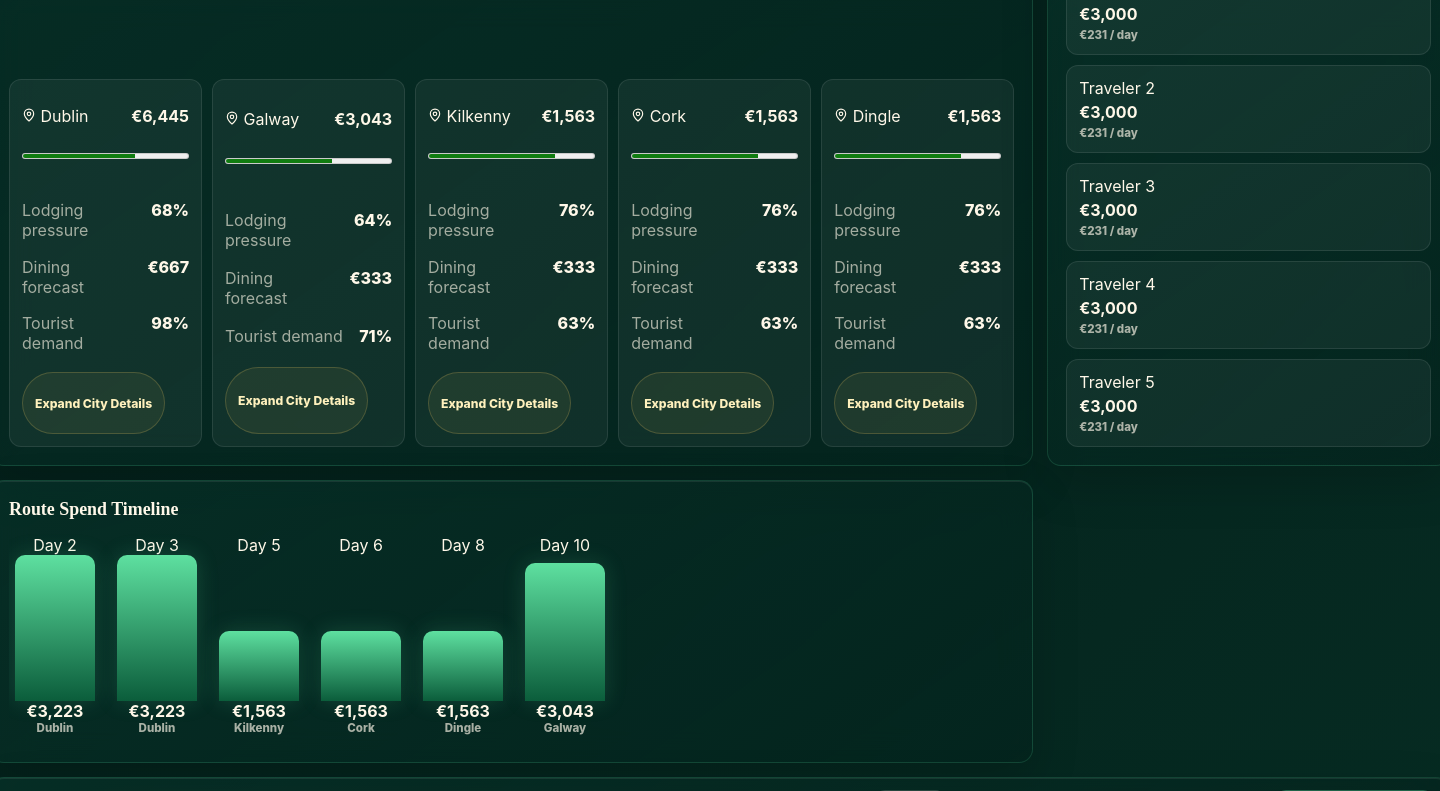
it: BudgetIntelligenceCenter › expands city intelligence cards into overlays
(page scrolled)
Step 1. Click the button with aria-label "Expand Galway intelligence" → click(297, 401), box [225,367,368,434]
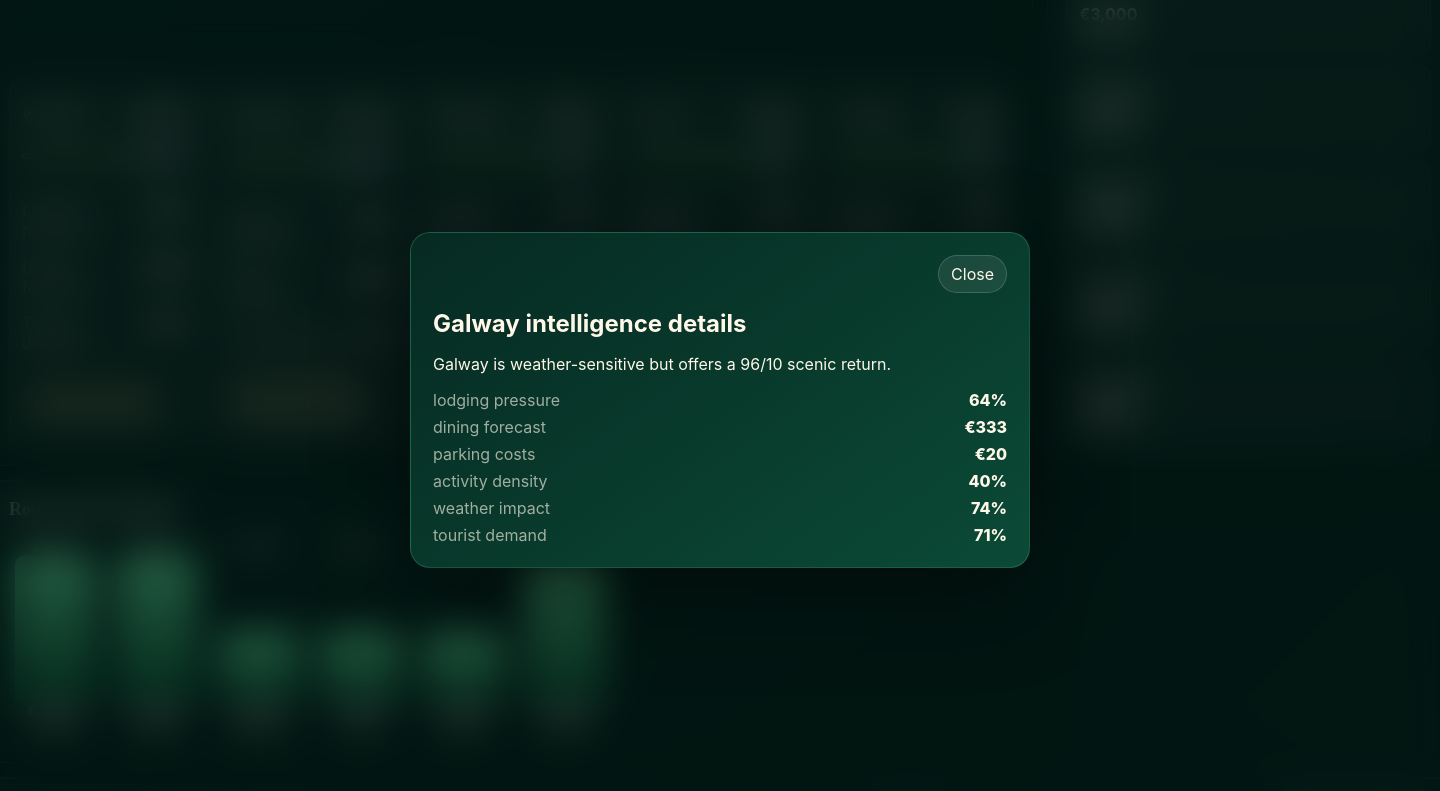
Expected: the dialog "Galway intelligence details" is shown, [410,232,1030,568]
Expected: the text "lodging pressure" is shown, [433,390,560,410]
